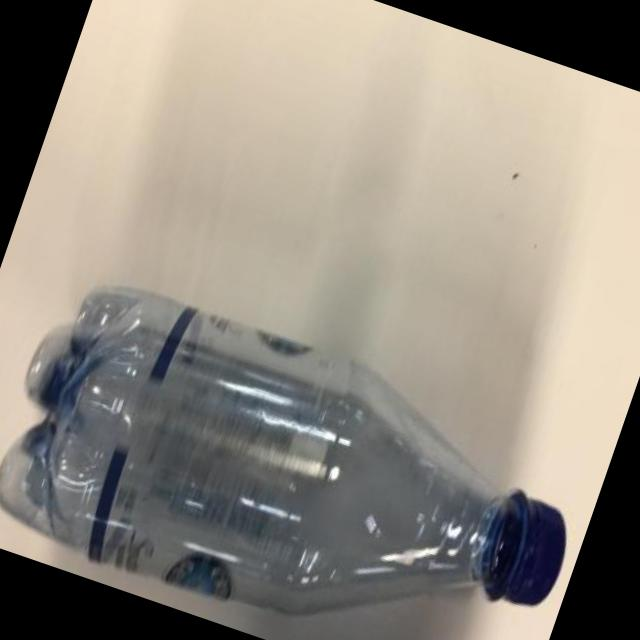BotolPlastik: (0, 255, 605, 640)
